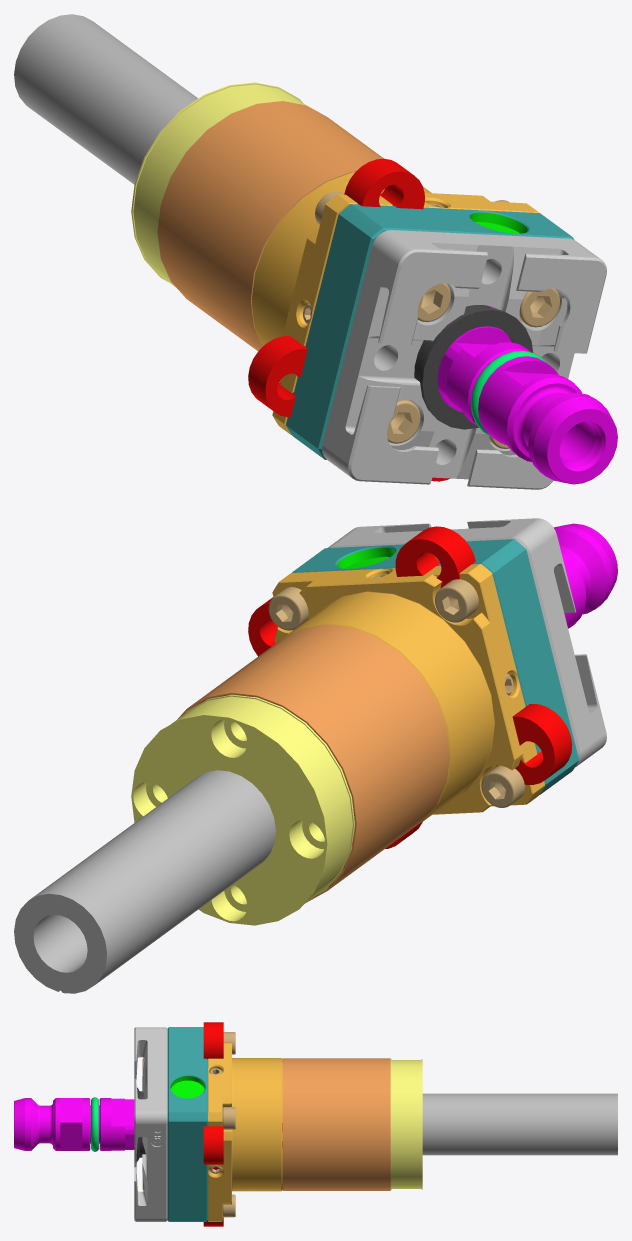
3 renders of one model, top to bottom at view 1: azimuth 30°, elevation 25°; view 2: azimuth 150°, elevation 25°; view 3: azimuth 270°, elevation 25°, orthographic. The views are drawn at different scales.
Visible parts, largest first — view 1: NAUO6, NAUO5, NAUO2, NAUO1, NAUO3; view 2: NAUO6, NAUO2, NAUO5, NAUO1, NAUO3; view 3: NAUO6, NAUO5, NAUO2, NAUO1, NAUO3.
Part boxes in pixels (left/top/right/bottom): NAUO6: left=251, top=172, right=617, bottom=489; NAUO5: left=157, top=101, right=383, bottom=350; NAUO2: left=14, top=14, right=197, bottom=184; NAUO1: left=131, top=82, right=305, bottom=287; NAUO3: left=248, top=158, right=449, bottom=481; NAUO6: left=268, top=518, right=617, bottom=822; NAUO2: left=14, top=770, right=275, bottom=993; NAUO5: left=178, top=624, right=449, bottom=901; NAUO1: left=131, top=694, right=354, bottom=925; NAUO3: left=183, top=526, right=572, bottom=886; NAUO6: left=14, top=1027, right=282, bottom=1221; NAUO5: left=282, top=1058, right=390, bottom=1190; NAUO2: left=422, top=1093, right=617, bottom=1155; NAUO1: left=390, top=1059, right=422, bottom=1189; NAUO3: left=203, top=1022, right=282, bottom=1226.
Size of the model in its own units: 76.62 by 76.61 by 226.
